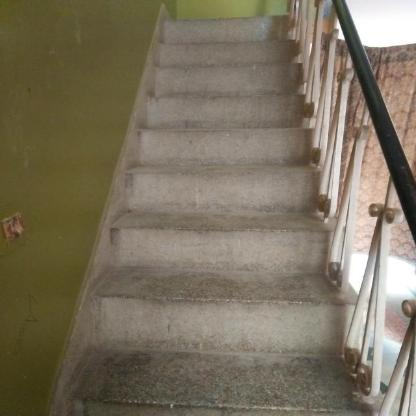stair: (83, 10, 357, 416)
